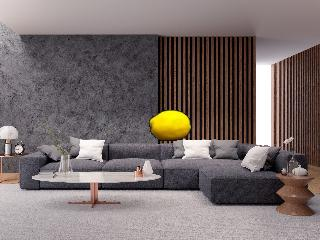lemon: (151, 112, 191, 141)
